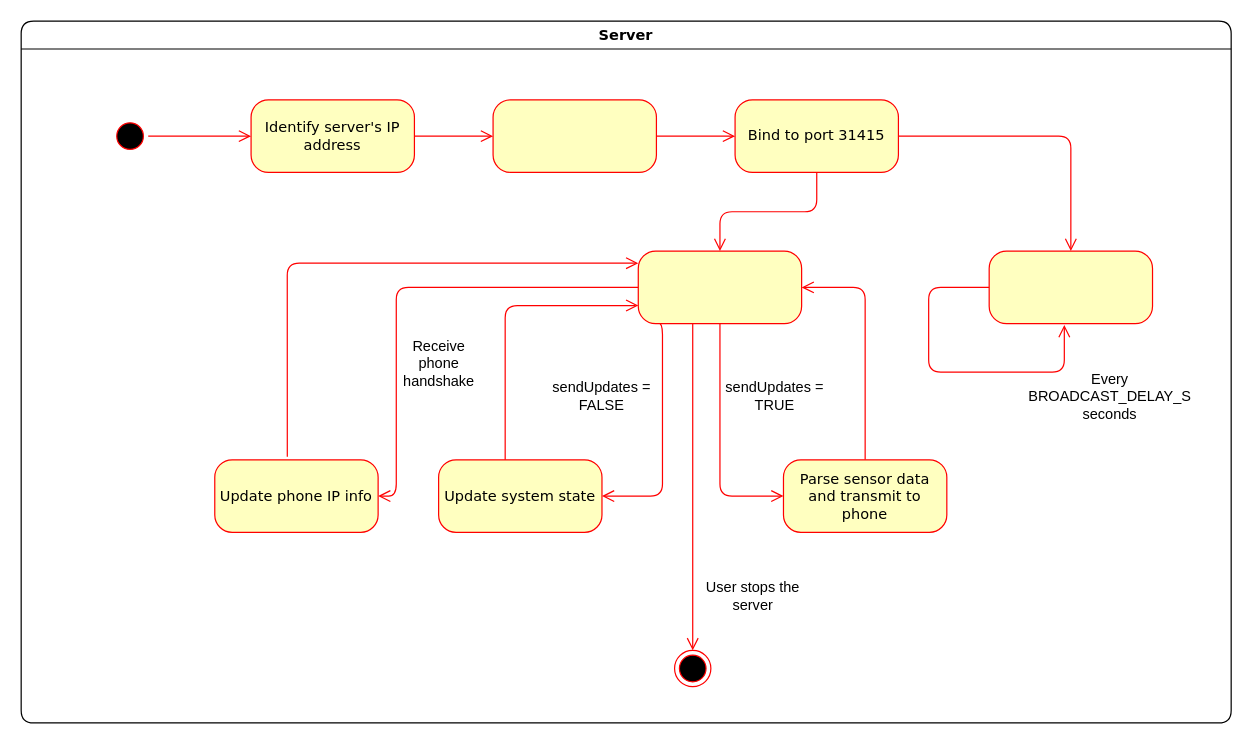
Some shapes in this 1252 by 744 pixel diagram are drawn without their labels. The shapes that lost their labels are listed below. From the top down, each one's box as (x1, y1, x2, y2) in pixels, then its label:
(492, 99, 656, 172): Open a UDP socket
(637, 250, 802, 324): Listen continuously for incoming packets
(988, 250, 1153, 324): Transmit server's IP and handshake
